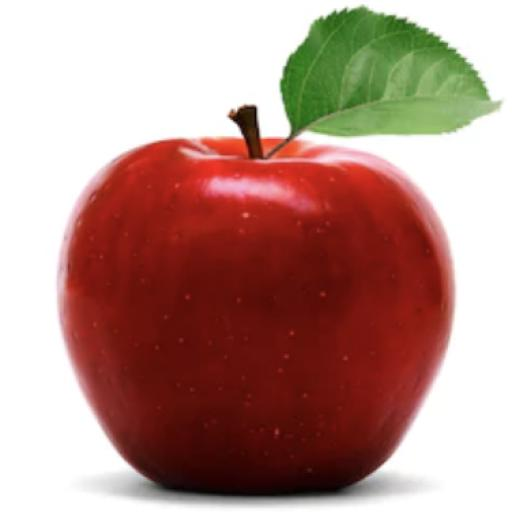apple: (59, 139, 453, 493)
